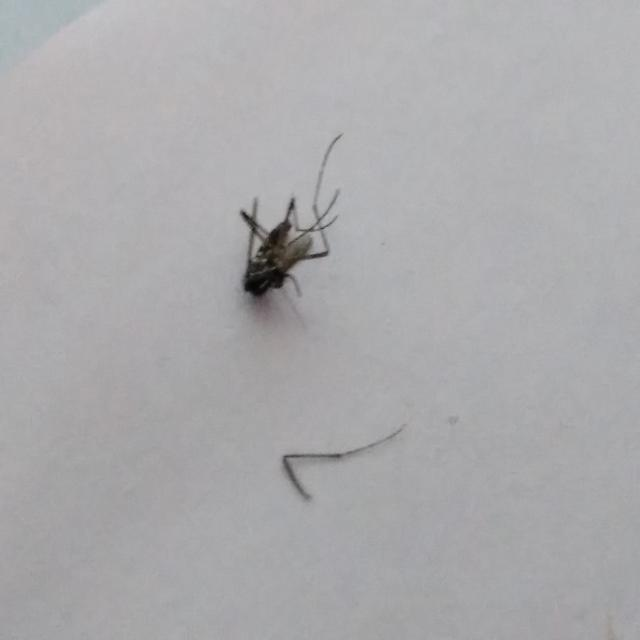albopictus: (227, 128, 348, 306)
